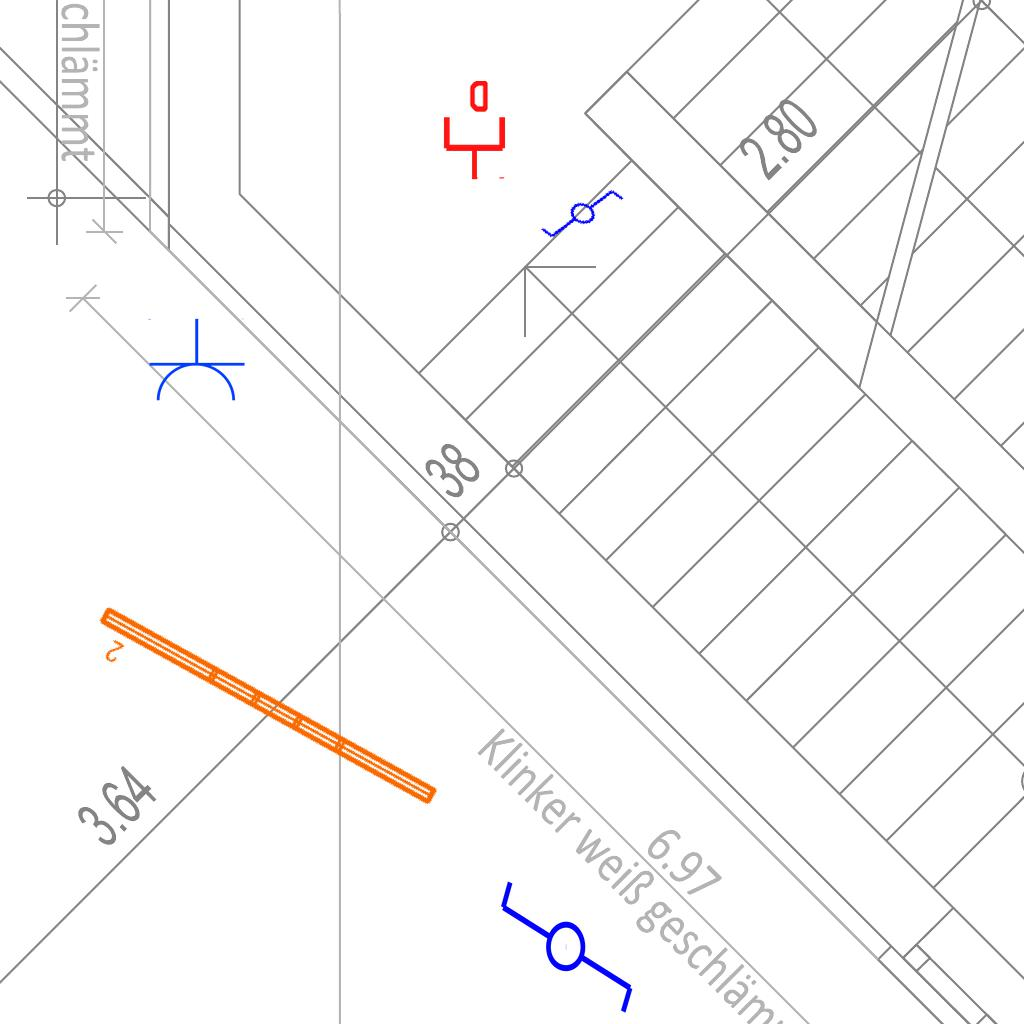Ambulanz_Pendelleuchte_LED: (79, 598, 446, 836)
Datenanschluss_einfach: (440, 81, 509, 181)
Schukosteckdose_einfach: (146, 318, 246, 405)
Wechselschalter: (496, 860, 640, 1017), (536, 168, 636, 264)
